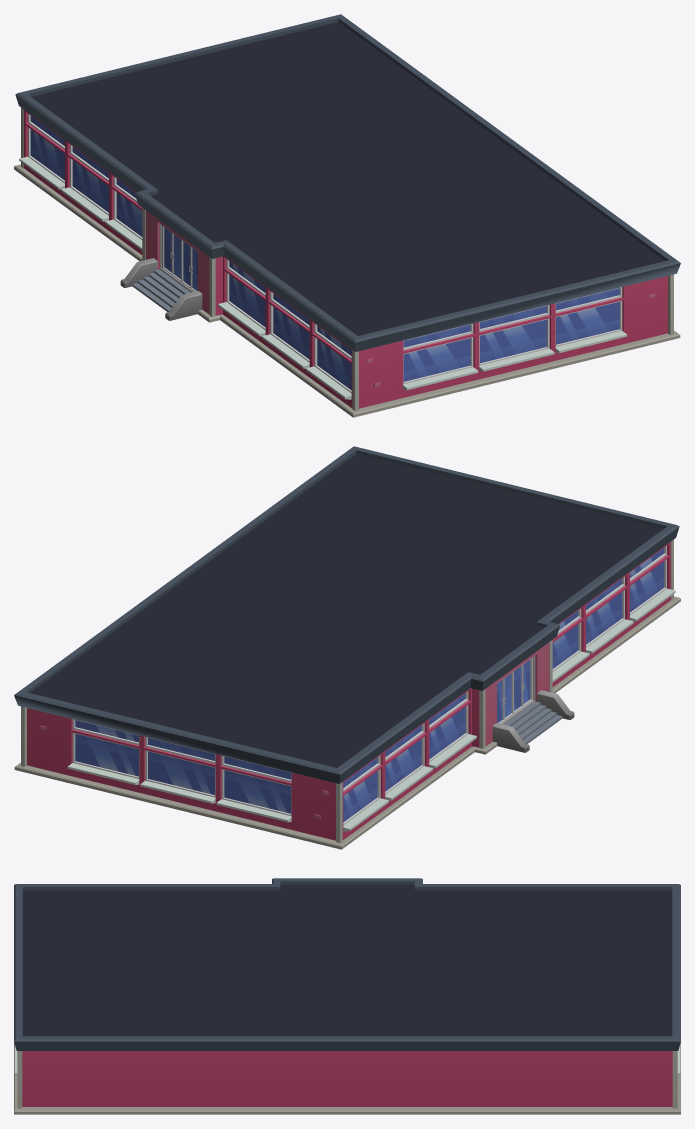
Rendered from Building_16_1_L.fbx.
3 renders of one model, top to bottom at view 1: azimuth 30°, elevation 25°; view 2: azimuth 150°, elevation 25°; view 3: azimuth 270°, elevation 25°, orthographic.
Parts seen in each view (by area): view 1: Building_16_1_L; view 2: Building_16_1_L; view 3: Building_16_1_L.
Part boxes in pixels (bbox=[...]): Building_16_1_L: bbox=[14, 14, 680, 417]; Building_16_1_L: bbox=[14, 446, 680, 849]; Building_16_1_L: bbox=[14, 878, 680, 1114].
Bounding box in the file's own units: 1888 × 375 × 3026.
